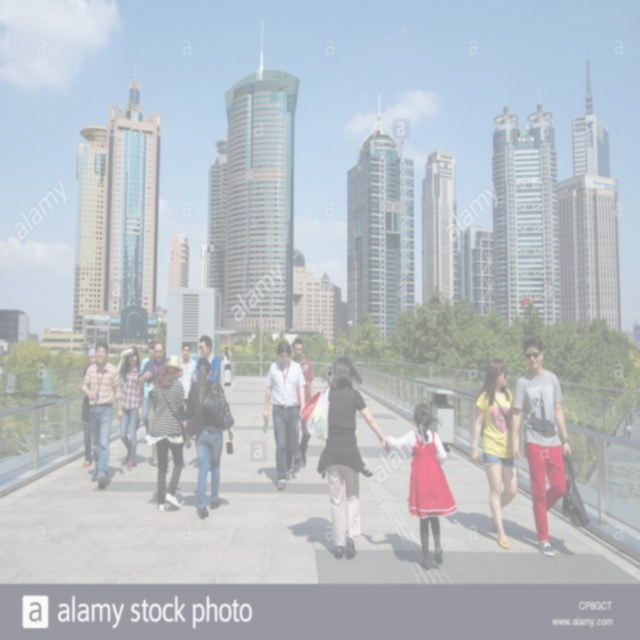pessoa: (299, 352, 393, 562), (508, 329, 592, 559), (381, 400, 458, 571), (470, 354, 522, 550), (284, 508, 432, 572), (182, 357, 236, 520), (444, 502, 576, 568), (144, 353, 193, 516), (260, 338, 306, 492), (81, 340, 125, 490), (190, 334, 222, 474), (139, 340, 171, 472), (90, 451, 218, 482), (114, 343, 144, 472), (289, 337, 315, 474), (143, 482, 230, 512), (78, 346, 98, 469), (138, 340, 156, 448), (178, 342, 198, 406), (258, 461, 284, 499), (222, 350, 232, 370), (224, 346, 234, 366), (624, 412, 633, 423), (622, 423, 628, 439), (626, 423, 632, 438)
